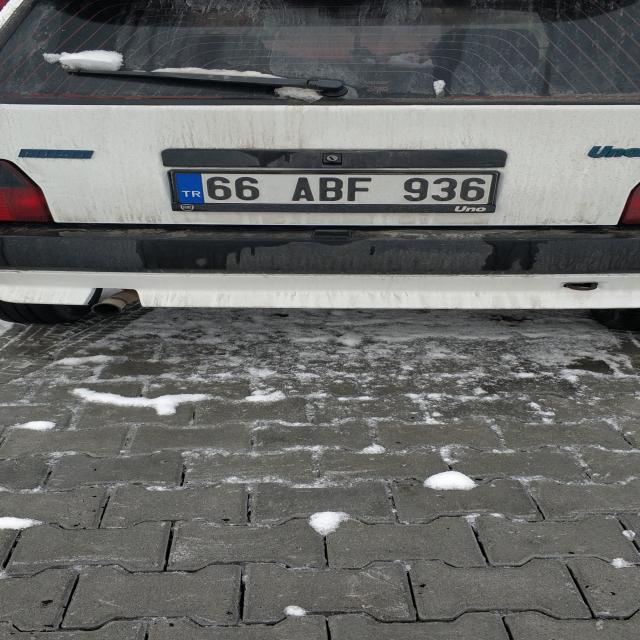license_plate: (167, 173, 496, 205)
